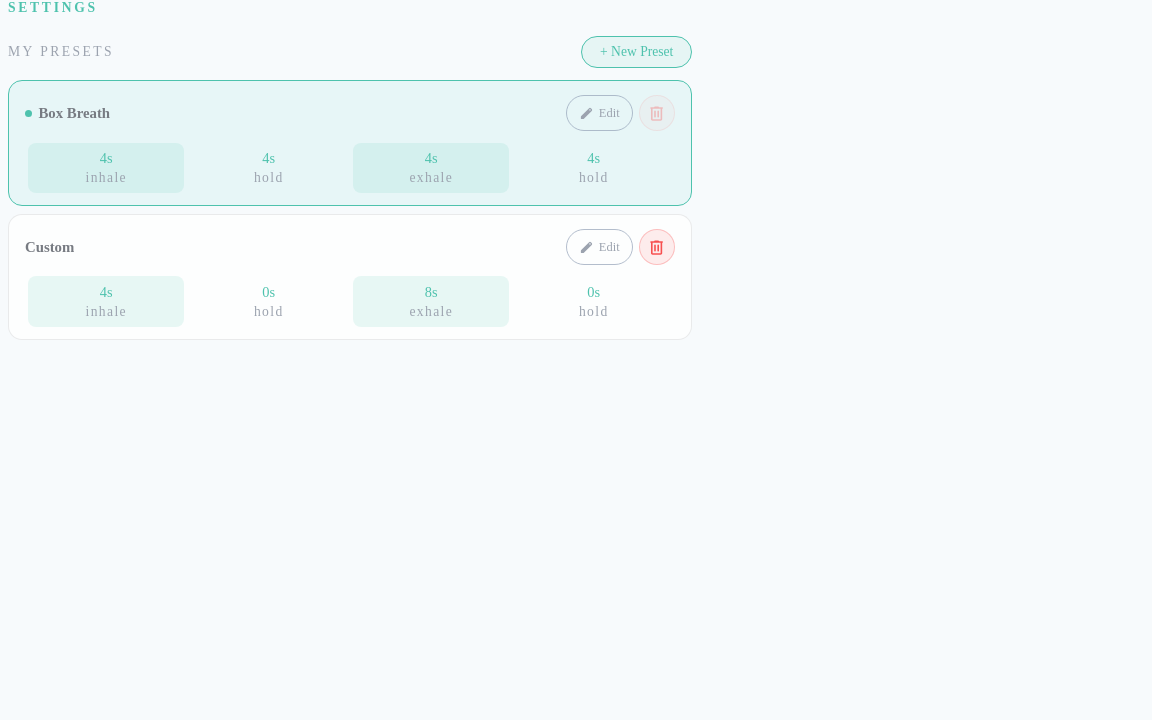
Test: SettingsPage › edit shows form pre-filled and button says Update Preset
Click the button "Edit" in the row of "Custom": (599, 247) [566,229,633,265]
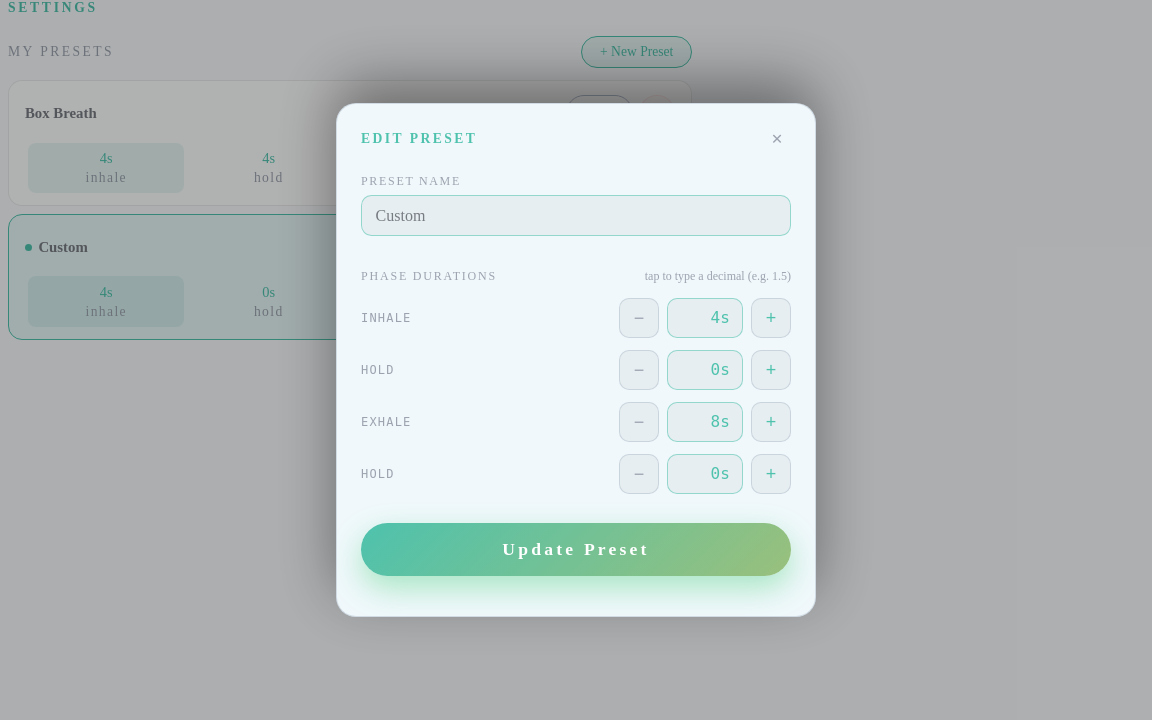
Now the form is shown, box [361,174,791,576]
Now the field labelled "Preset name" holds "Custom", box [361,195,791,236]
Now the 1st number field holds "4", box [680,299,720,337]
